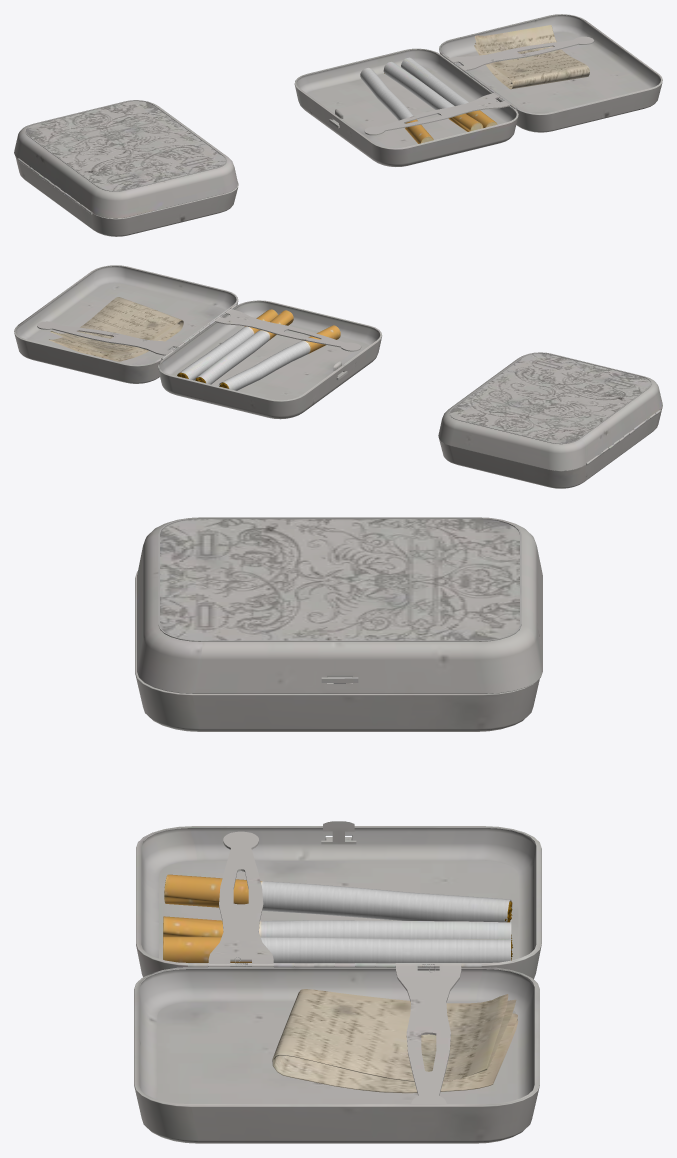
The model's file is cigaretteCase.glb.
3 views of the same model, one above another, from view 1: azimuth 30°, elevation 25°; view 2: azimuth 150°, elevation 25°; view 3: azimuth 270°, elevation 25° (orthographic). The views are drawn at different scales.
Parts seen in each view (by area): view 1: cigarette_case_cover_b; view 2: cigarette_case_cover_b; view 3: cigarette_case_cover_b.
Part boxes in pixels (box(x1,y1,x2,y2)): cigarette_case_cover_b: box(14, 14, 662, 236); cigarette_case_cover_b: box(14, 265, 662, 488); cigarette_case_cover_b: box(134, 517, 542, 1143).
Size of the model in its own units: 0.3233 by 0.0245 by 0.1007.
Materials: 1 (1 with a texture image).
